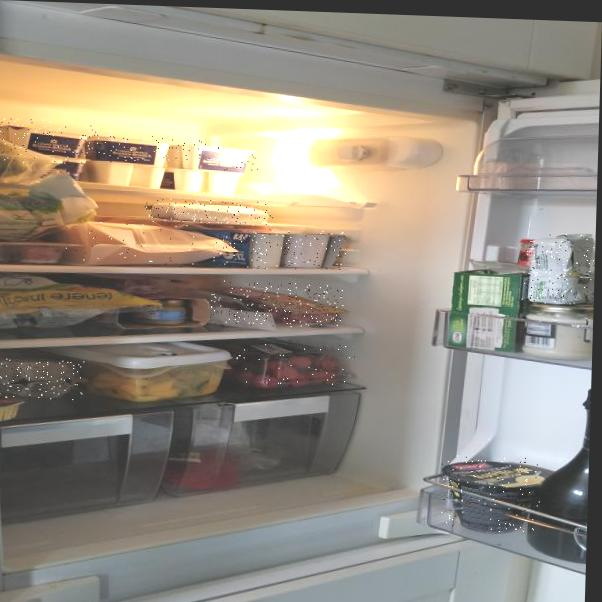bacon: (211, 281, 345, 330)
butter: (522, 233, 596, 308)
cheese: (62, 220, 207, 269), (146, 197, 276, 227)
eggs: (0, 357, 84, 401)
tomatoes: (234, 339, 355, 386)
yoghurt: (440, 455, 541, 534), (214, 227, 346, 272), (0, 117, 97, 166), (158, 139, 261, 173), (81, 133, 173, 168), (89, 162, 167, 194), (170, 169, 242, 195)
